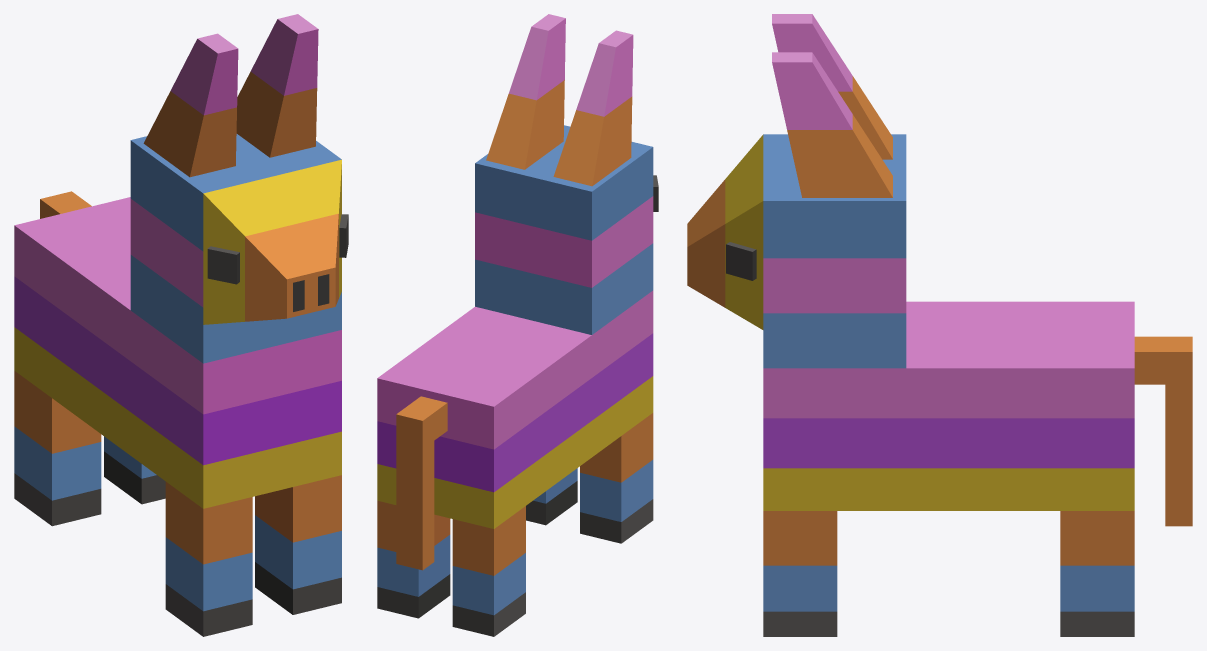
File: SC_CincoDeMayo_Pinata.fbx
3 views of the same model, side by side, from view 1: azimuth 30°, elevation 25°; view 2: azimuth 150°, elevation 25°; view 3: azimuth 270°, elevation 25° (orthographic). The views are drawn at different scales.
Parts seen in each view (by area): view 1: SC_CincoDeMayo_Pinata; view 2: SC_CincoDeMayo_Pinata; view 3: SC_CincoDeMayo_Pinata.
Boxes of the visible parts, <box> form: SC_CincoDeMayo_Pinata: <box>14,14,348,636</box>; SC_CincoDeMayo_Pinata: <box>377,14,658,636</box>; SC_CincoDeMayo_Pinata: <box>687,14,1192,636</box>.
Bounding box in the file's own units: 0.4609 × 1.8 × 1.45.
